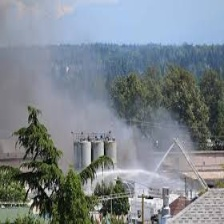smoke: (1, 1, 114, 153)
